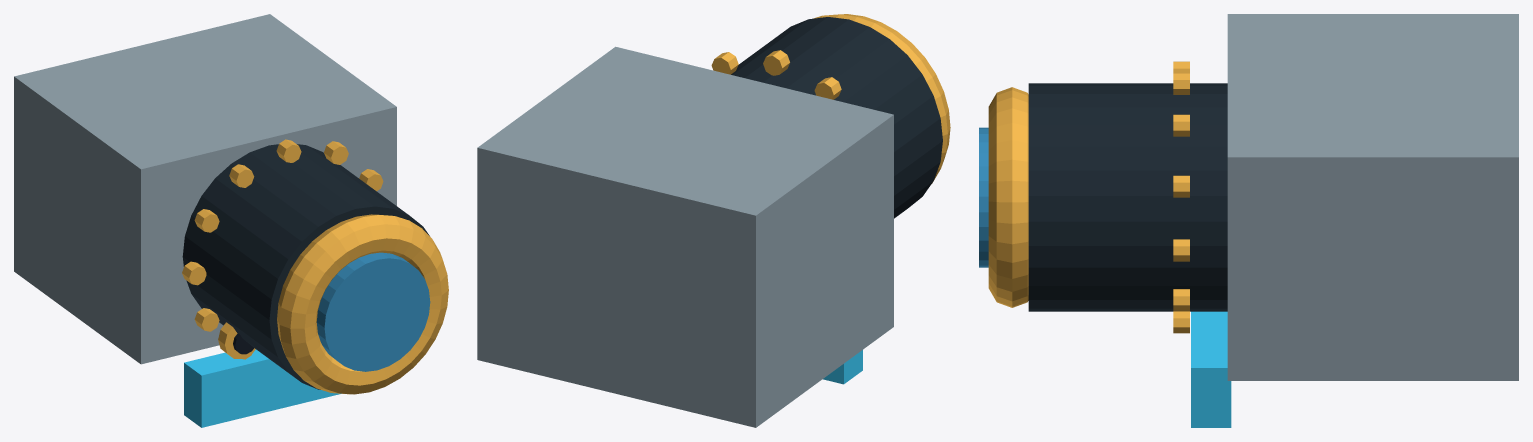
Rendered from 42_L84_EarthHorizonSensor.fbx.
The picture shows the model from 3 angles, left to right: view 1: azimuth 30°, elevation 25°; view 2: azimuth 150°, elevation 25°; view 3: azimuth 270°, elevation 25°; orthographic projection. The views are drawn at different scales.
Visible parts, largest first — view 1: L84_EarthHorizonSensor, L84_EarthHorizonSensor_Part_0006; view 2: L84_EarthHorizonSensor; view 3: L84_EarthHorizonSensor.
Boxes of the visible parts, x1,y1,x2,y2 form: L84_EarthHorizonSensor: (14,14,448,427); L84_EarthHorizonSensor_Part_0006: (218,322,255,358); L84_EarthHorizonSensor: (477,14,950,427); L84_EarthHorizonSensor: (979,14,1518,427).
Bounding box in the file's own units: 92 × 92.2 × 146.
